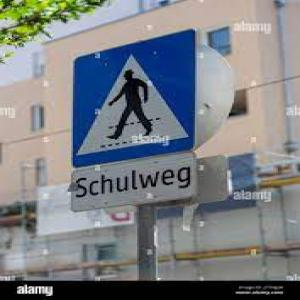PEDESTRIAN CROSSING: (67, 33, 206, 167)
